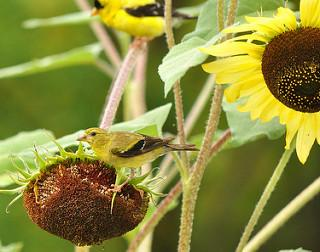sunflower: (199, 0, 320, 161)
